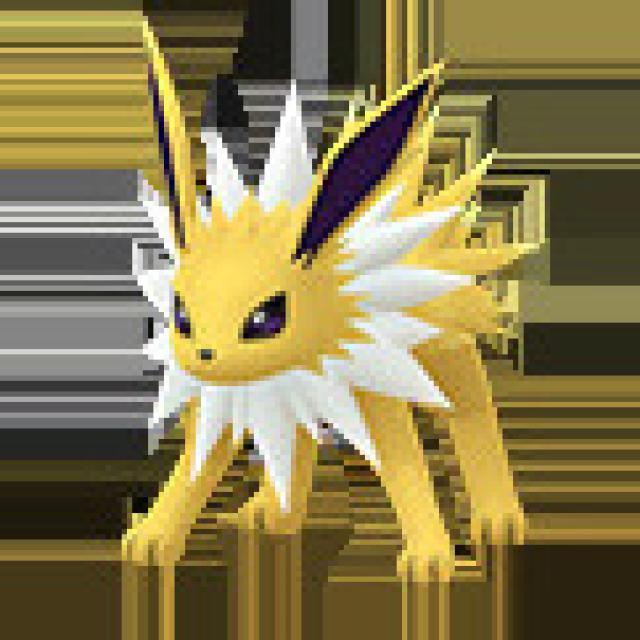Jolteon: (102, 22, 548, 580)
